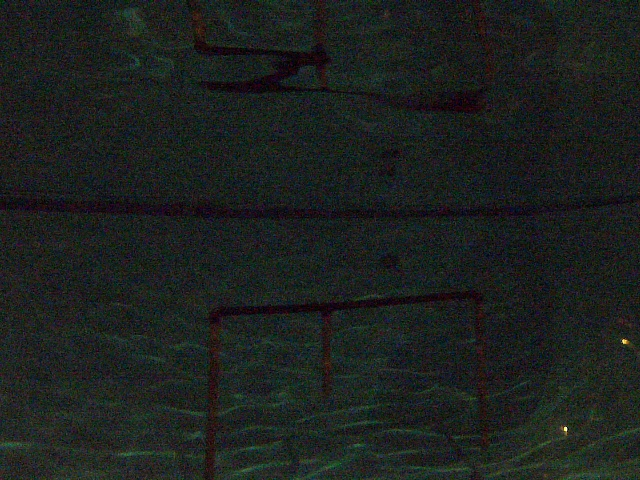Gate: (468, 301, 495, 448), (203, 316, 221, 480), (319, 312, 341, 395)
